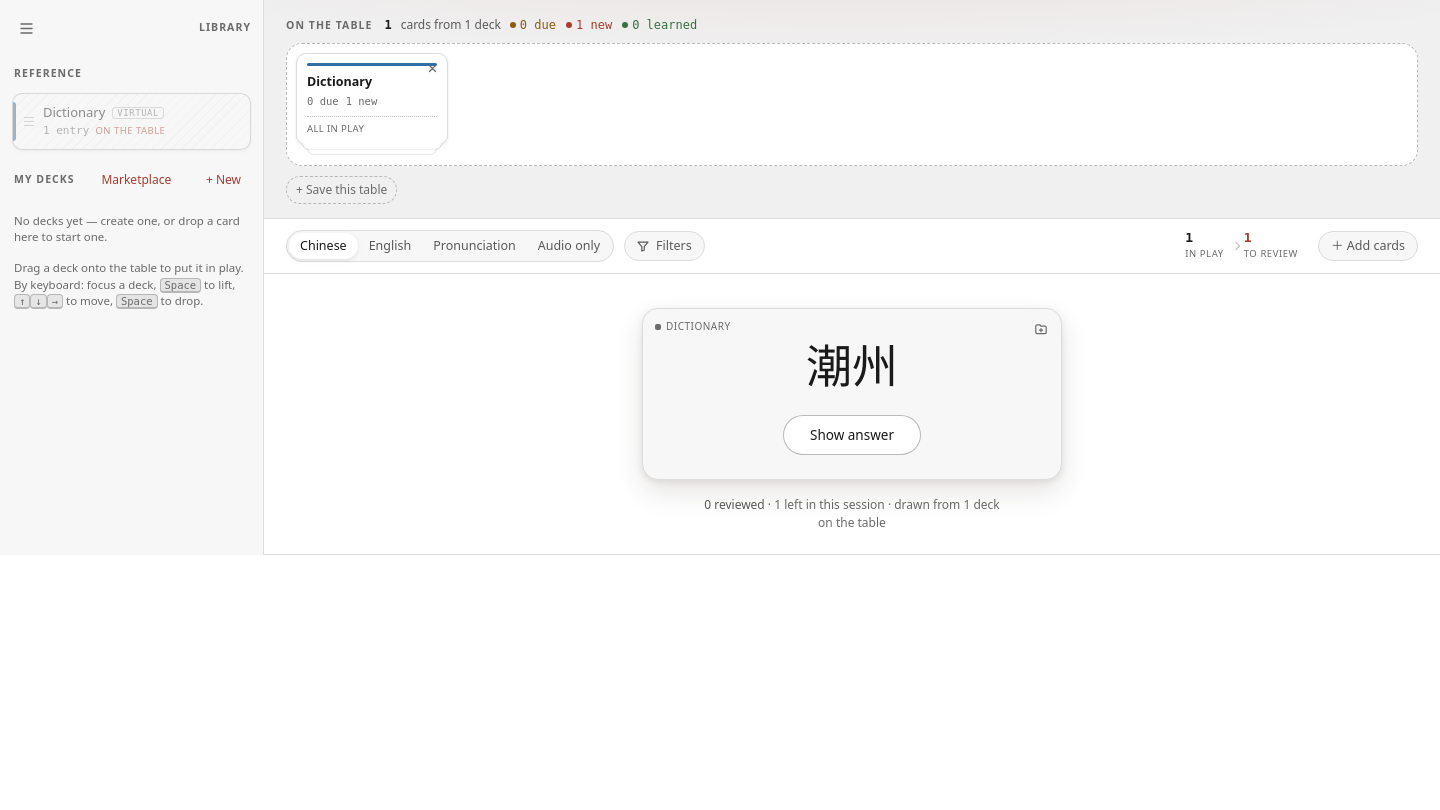
Scenario: FlashcardsView filters › keeps the panel closed until asked
expect the text "0 reviewed" is shown: met, box [704,496,765,513]
expect the text "Tones shown" is not shown: met
Click the button "Filters" at (664, 246), box [624,231,705,261]
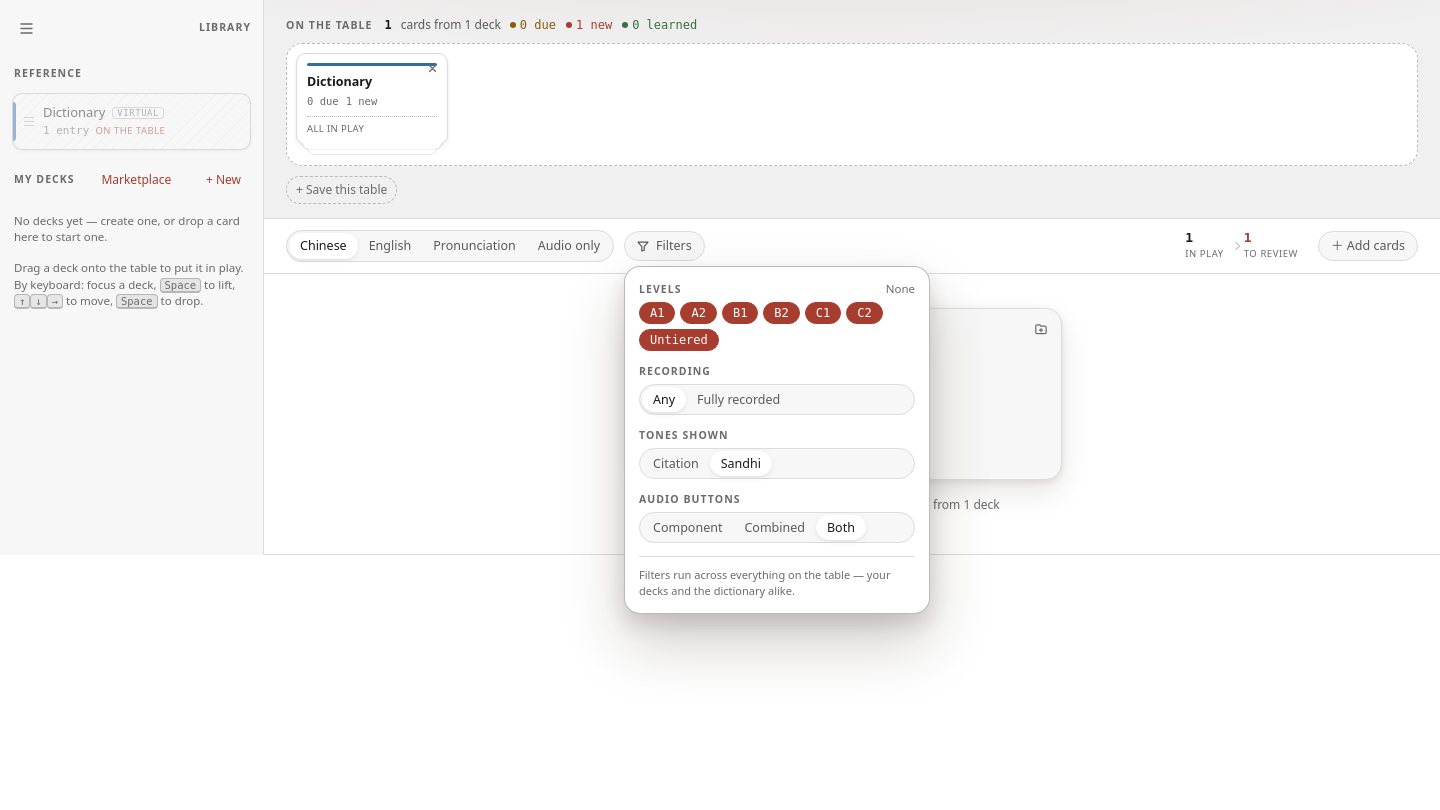
expect the text "Tones shown" is shown: met, box [639,428,728,442]
